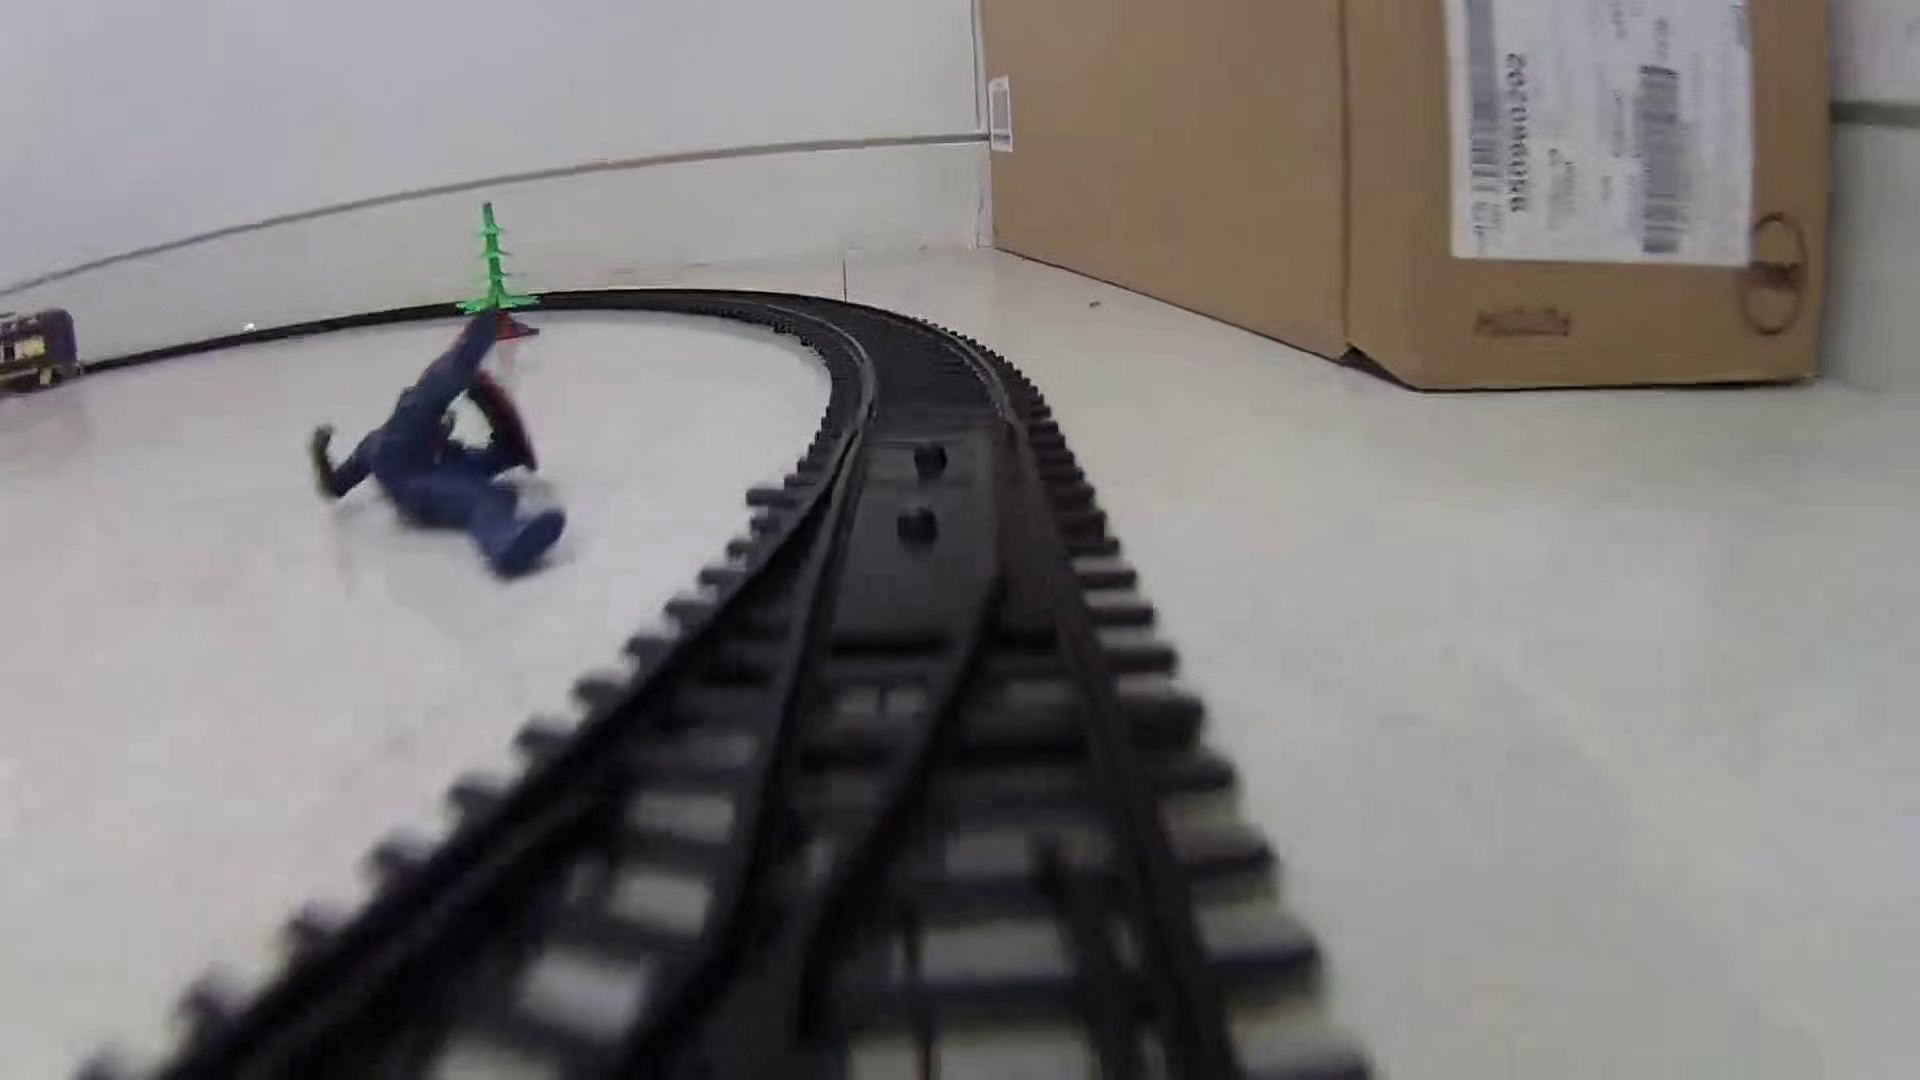people: (307, 306, 565, 584)
tree: (457, 198, 542, 346)
